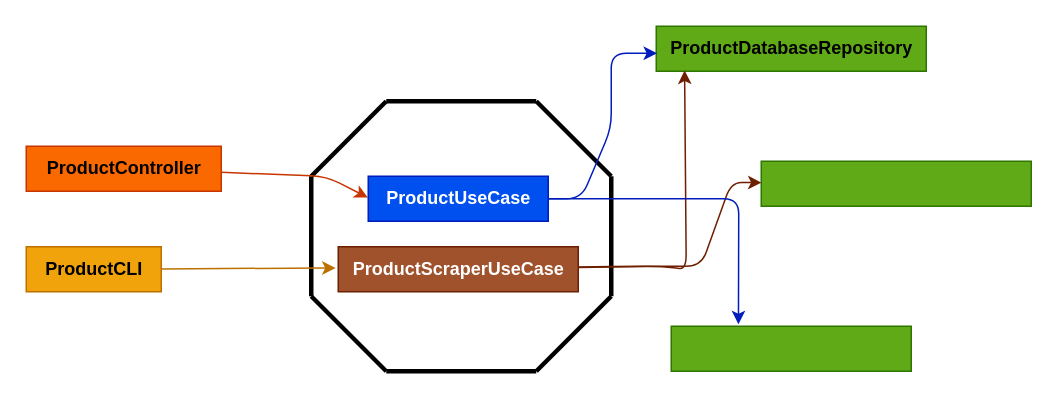
The diagram is 1058 pixels wide and 401 high, and some of its shapes have lost their labels. The box of each missing label's shape, as (x1, y1, x2, y2) in pixels:
ProductLLMRepository: (670, 325, 911, 371)
ProductScraperRepository: (760, 160, 1031, 206)
